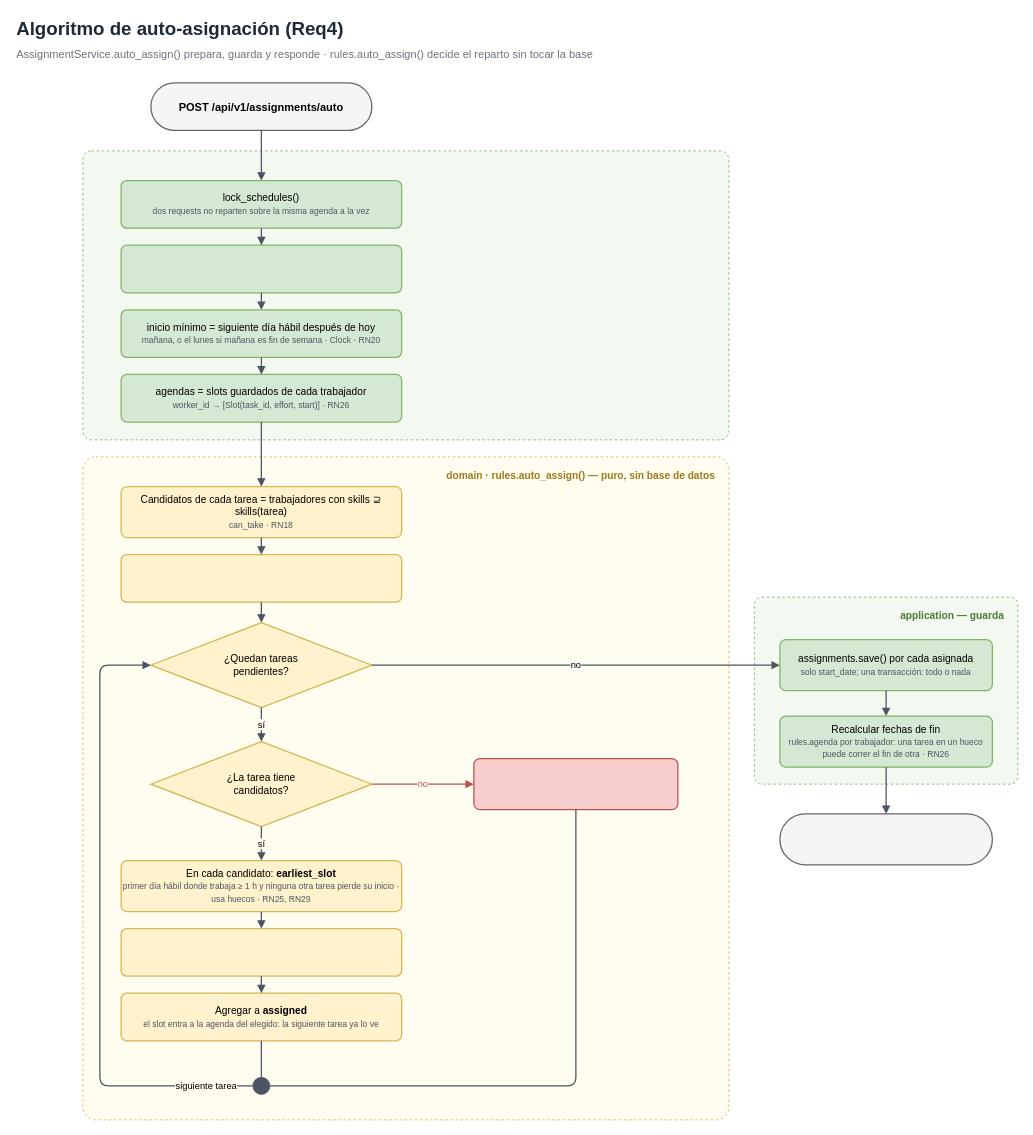
The diagram is 1033 pixels wide and 1135 high, and some of its shapes have lost their labels. The shapes that lost their labels are listed below. From the top down, each one's box as (x1, y1, x2, y2) in pixels, then its label:
(120, 244, 402, 293): Pendientes = tareas not-done sin asignación RN17 · no reasigna las existentes
(82, 150, 729, 440): application · AssignmentService.auto_assign() — lee por los puertos
(120, 554, 402, 602): Ordenar tareas: menos candidatos primero task_priority · empate: menor id · RN27
(473, 758, 678, 810): Agregar a unassigned nadie tiene las skills · se reporta en la respuesta · RN21
(779, 813, 993, 865): 200 OK { assigned, unassigned }
(120, 928, 402, 976): Elegir el que termina más pronto worker_priority · empate: menor id · RN19, RN28
